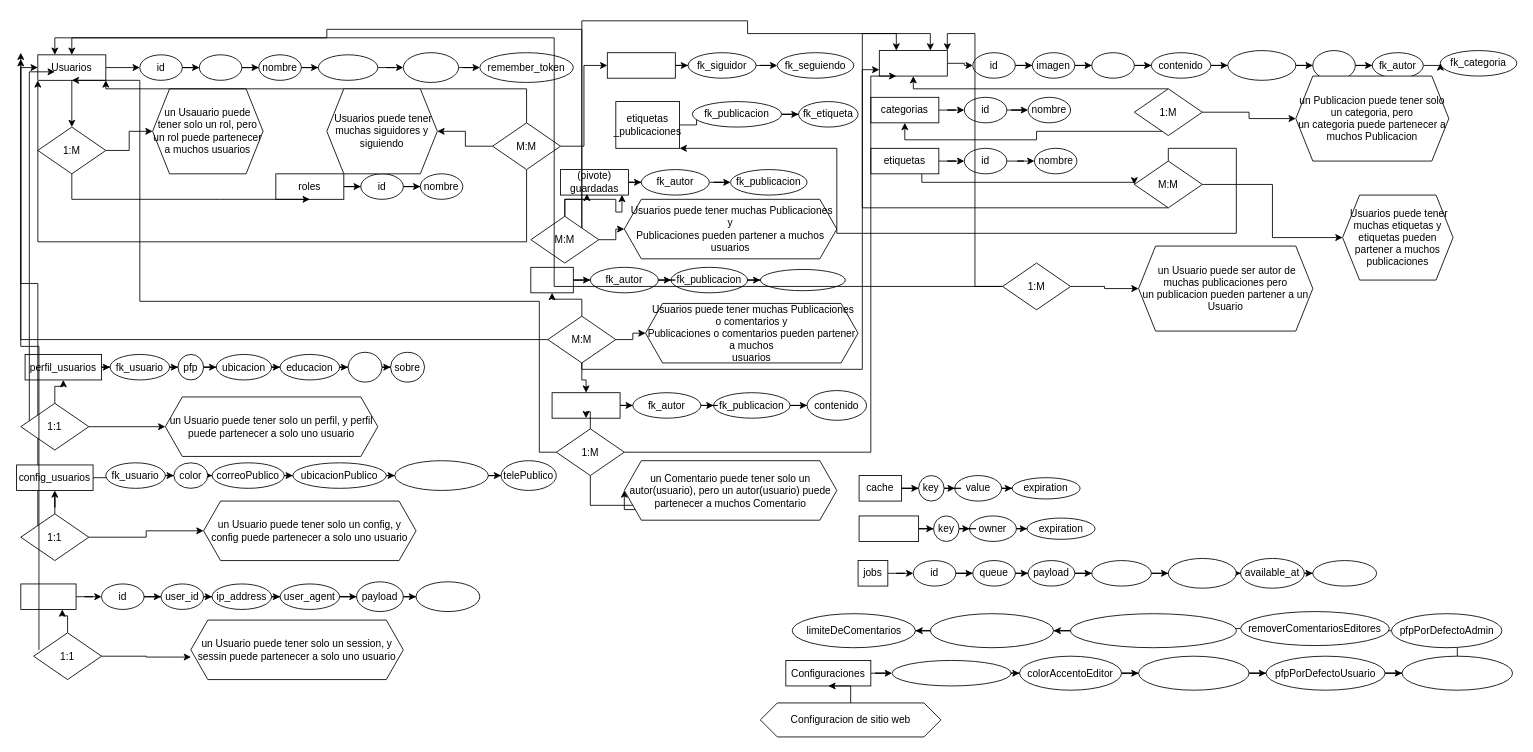
Some shapes in this 1533 by 752 pixel diagram are drawn without their labels. Here are the shapes that lost their labels. From the top down, the box of each, then its label:
(198, 54, 242, 80): fk_rol
(317, 54, 378, 80): username
(402, 52, 459, 82): correo
(606, 52, 675, 78): (pivote) siguidores
(878, 50, 947, 76): Publicaciones
(1091, 52, 1134, 78): titulo
(1227, 50, 1296, 80): descripcion
(1312, 50, 1355, 80): fecha
(530, 266, 573, 293): (pivote) likes
(759, 269, 845, 291): fk_comentario
(347, 351, 382, 382): tele
(551, 392, 620, 418): comentarios
(394, 460, 488, 490): educacionPublico
(858, 515, 919, 541): cache_locks
(1091, 560, 1151, 586): attempts
(1167, 558, 1236, 588): reserved_at
(1312, 560, 1377, 586): created_at
(20, 583, 76, 609): sessions
(415, 581, 480, 612): last_activity
(929, 613, 1054, 648): limiteDePublicaciones
(1070, 613, 1236, 648): modificarComentariosUsuarios
(891, 660, 1011, 686): colorAccentoUsuario
(1138, 655, 1249, 690): colorAccentoAdmin
(1401, 655, 1513, 690): pfpPorDefectoEditor
